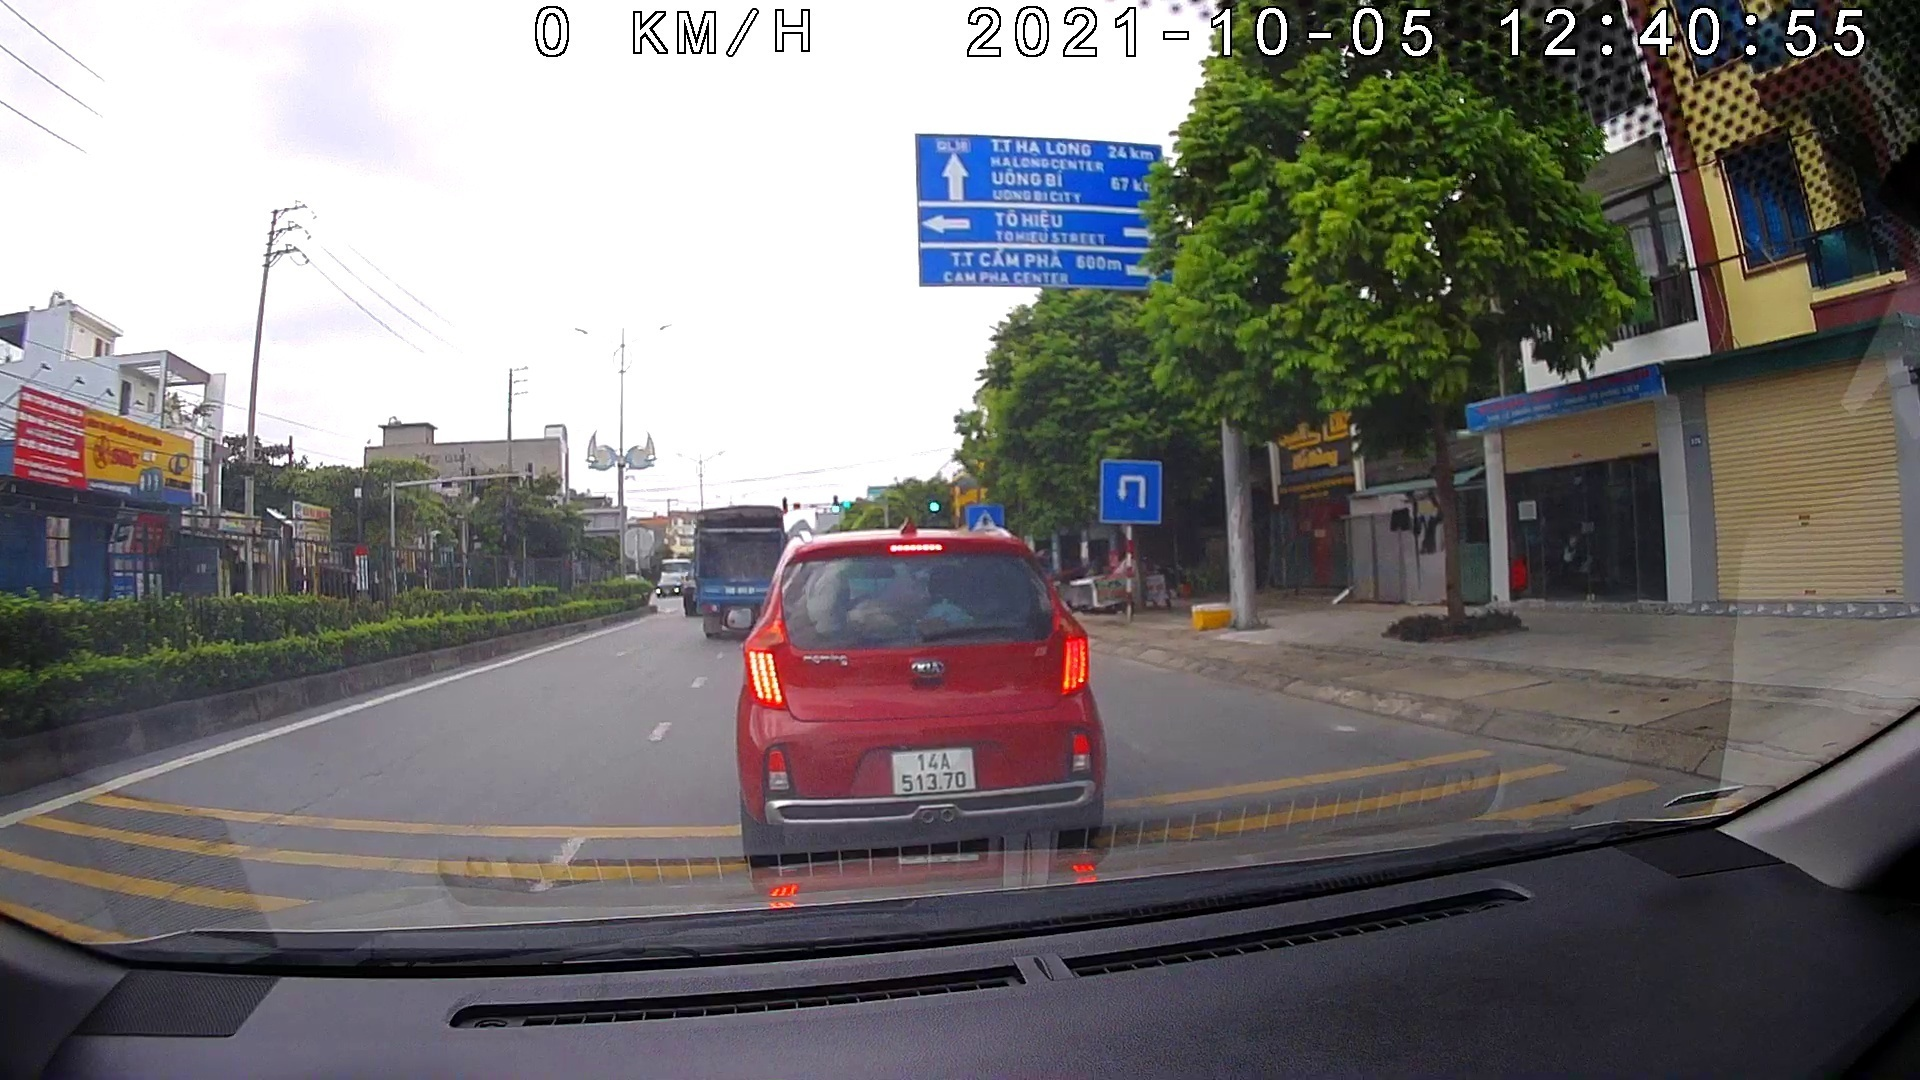Bien khac: (914, 129, 1185, 295), (1098, 458, 1163, 526)
Nguoi di bo: (964, 501, 1004, 531)
